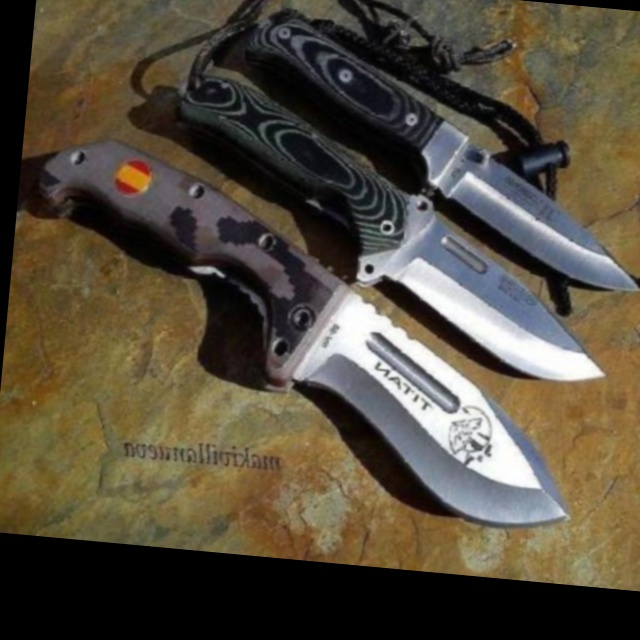Sharp-Object: (15, 137, 596, 537), (160, 65, 631, 387), (226, 9, 640, 293)
